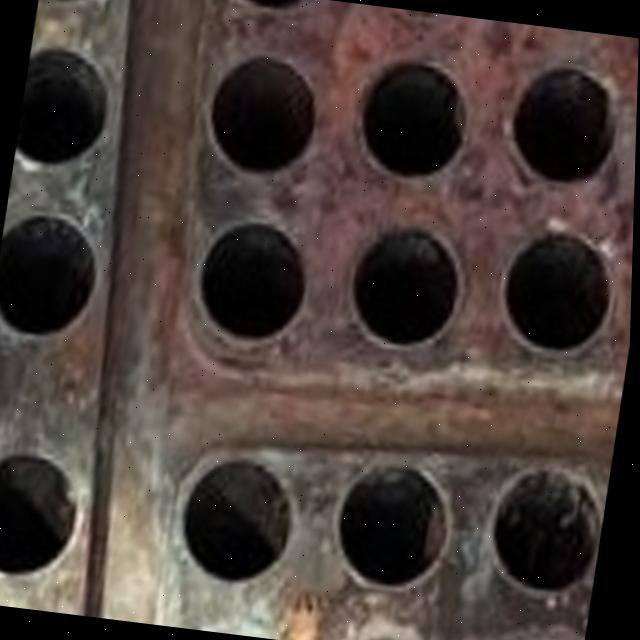Hole: (152, 434, 308, 592), (491, 216, 635, 366), (327, 444, 465, 596), (482, 448, 613, 600), (187, 45, 328, 179), (341, 218, 479, 354), (344, 50, 476, 186), (182, 218, 315, 348), (497, 69, 634, 193), (13, 41, 134, 178), (0, 206, 117, 347), (0, 447, 101, 584)
